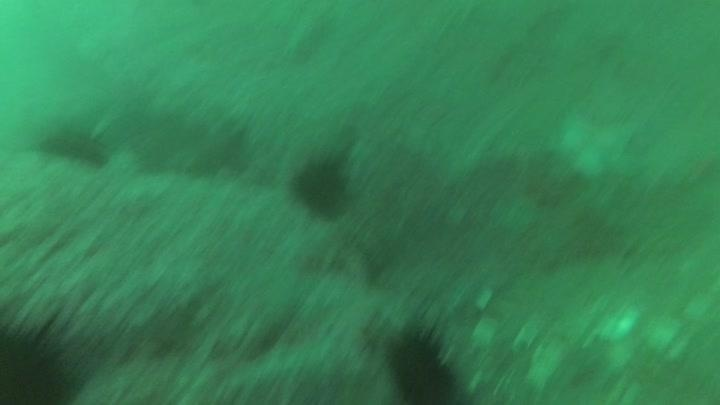echinus: (0, 300, 90, 405), (380, 320, 463, 405), (287, 151, 354, 221), (36, 118, 114, 169)
starfish: (549, 104, 644, 182)
